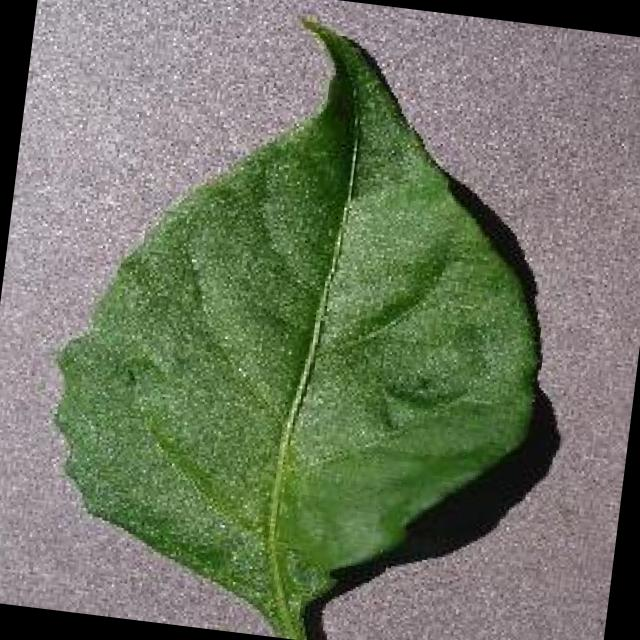Chilli_Healthy: (23, 0, 580, 640)
